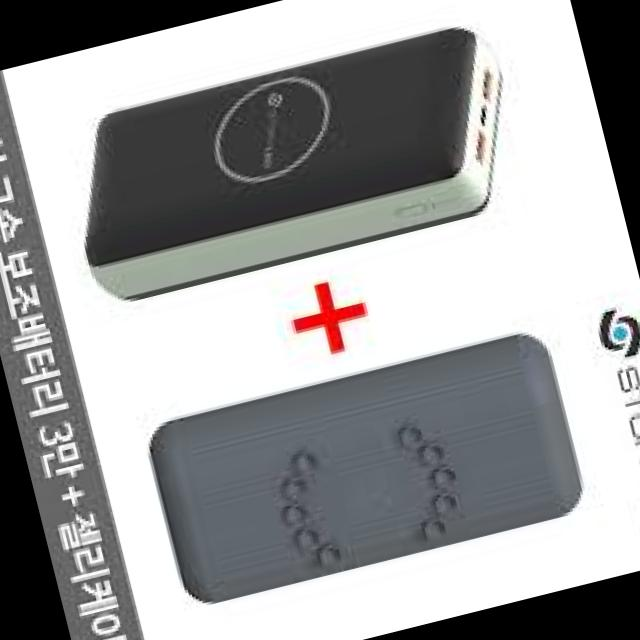portable-charger: (48, 17, 534, 314)
